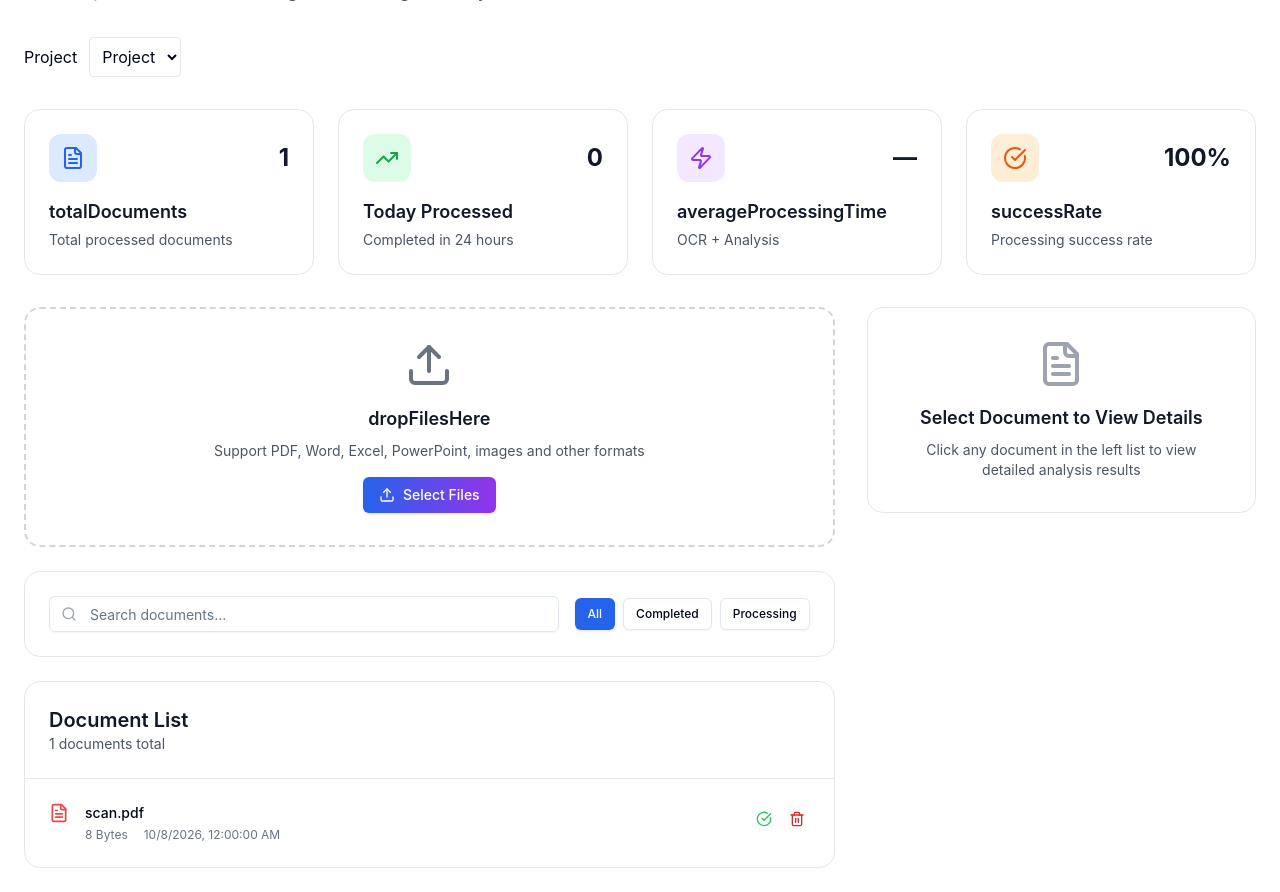
it: previews OCR output for scanned PDFs rather than the original binary
(page scrolled)
Click the heading "scan.pdf" at (114, 812), box [85,804,144,821]
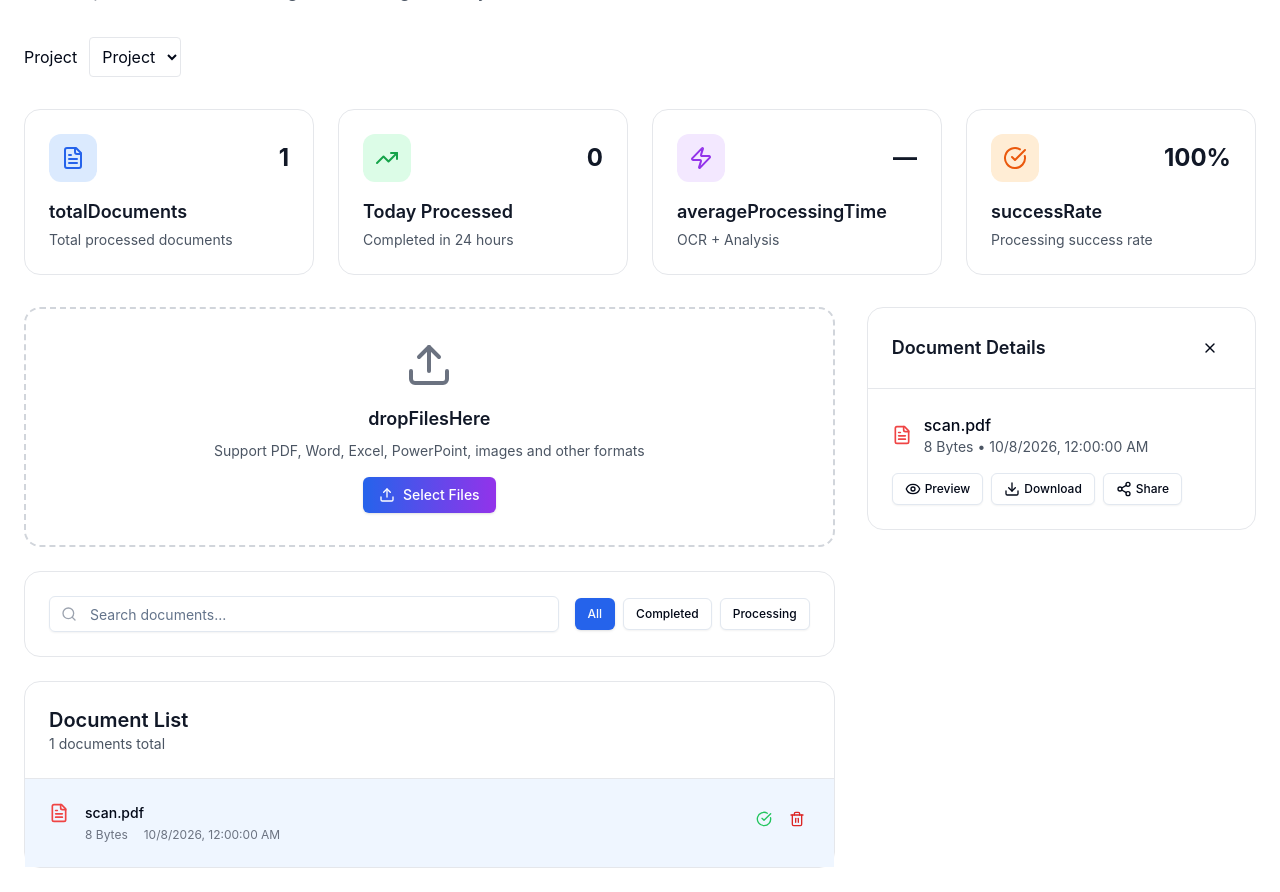
Click the button "Preview" at (938, 489), box [892,473,983,505]
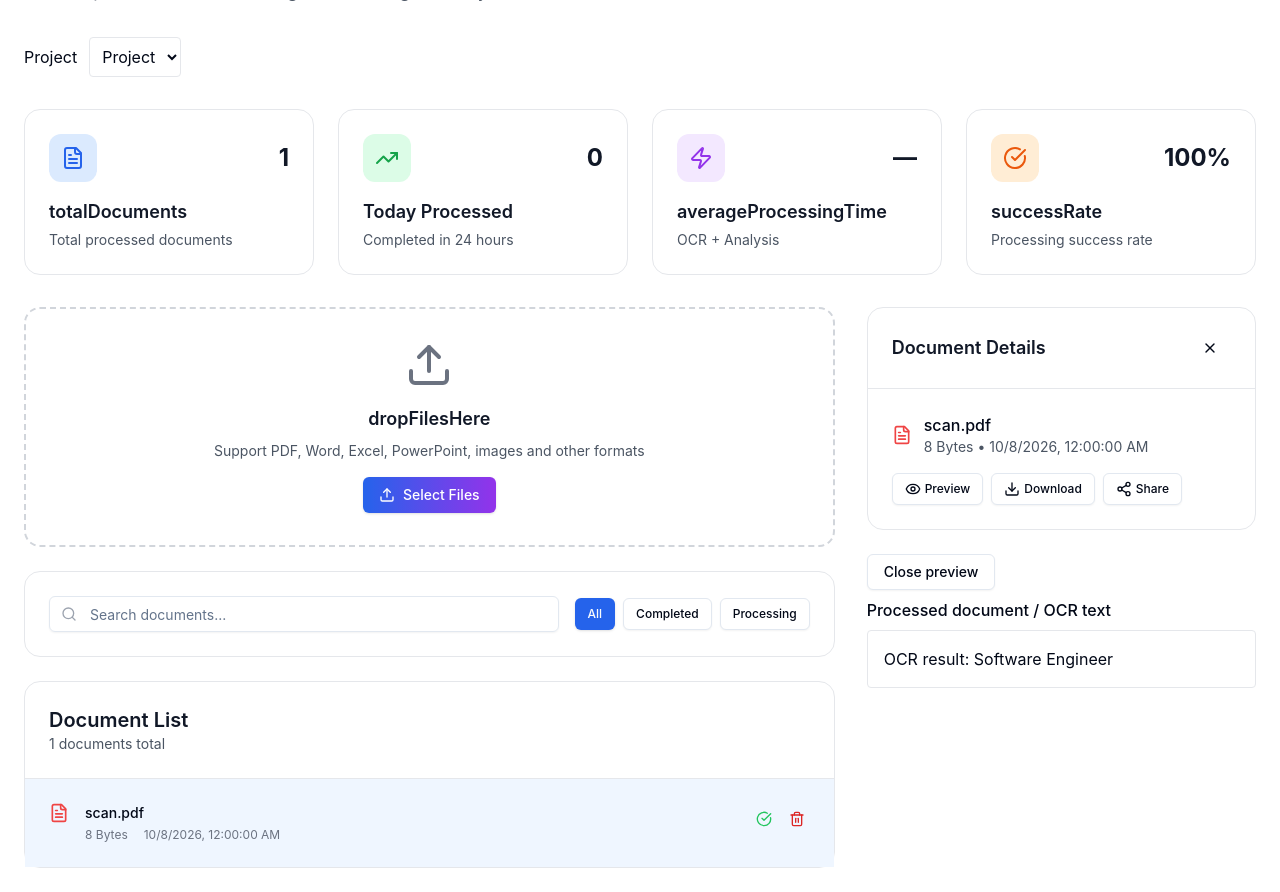
expect the text "OCR result: Software Engineer" is shown: met, box [884,649,1113,669]
